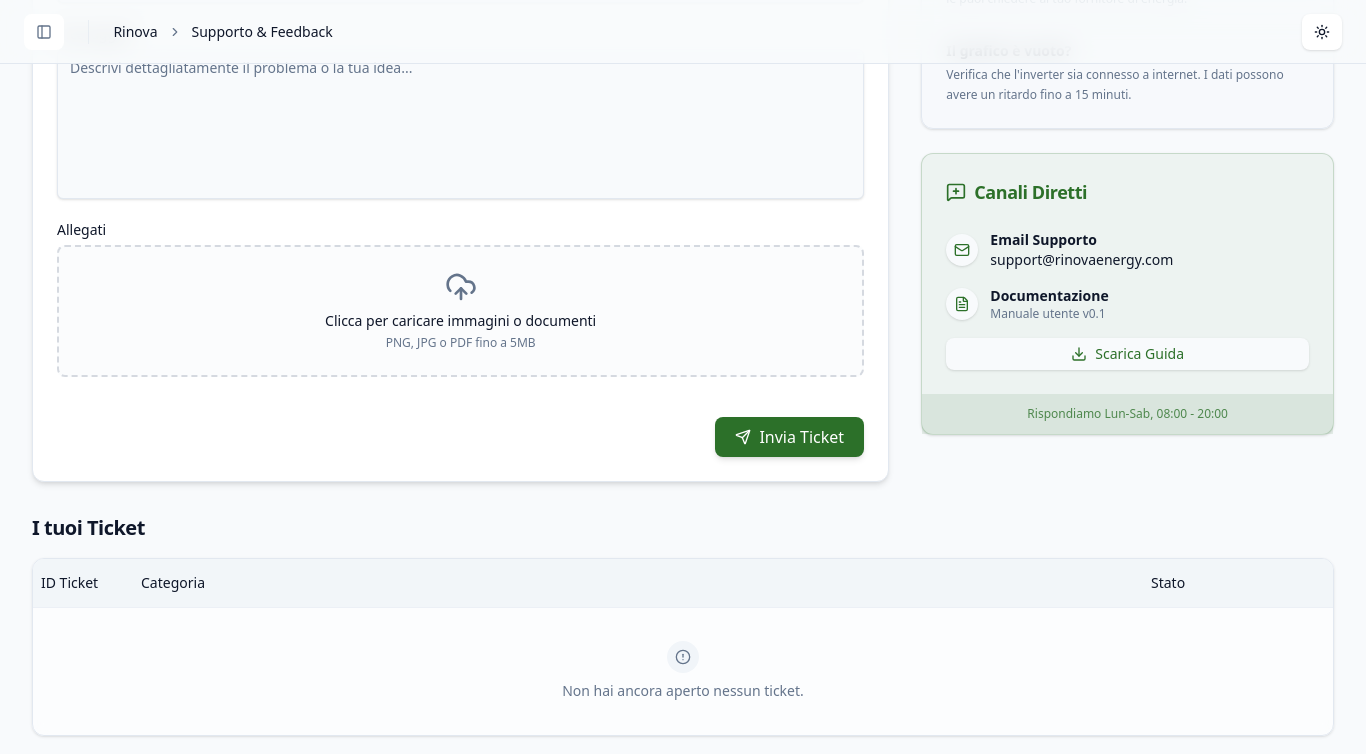
Test case: SupportPage › validates empty inputs
(page scrolled)
What coordinates should you click on to do the following:
click the button "Invia Ticket"
I would click on:
 (790, 437)
Its box is [715, 417, 864, 457].
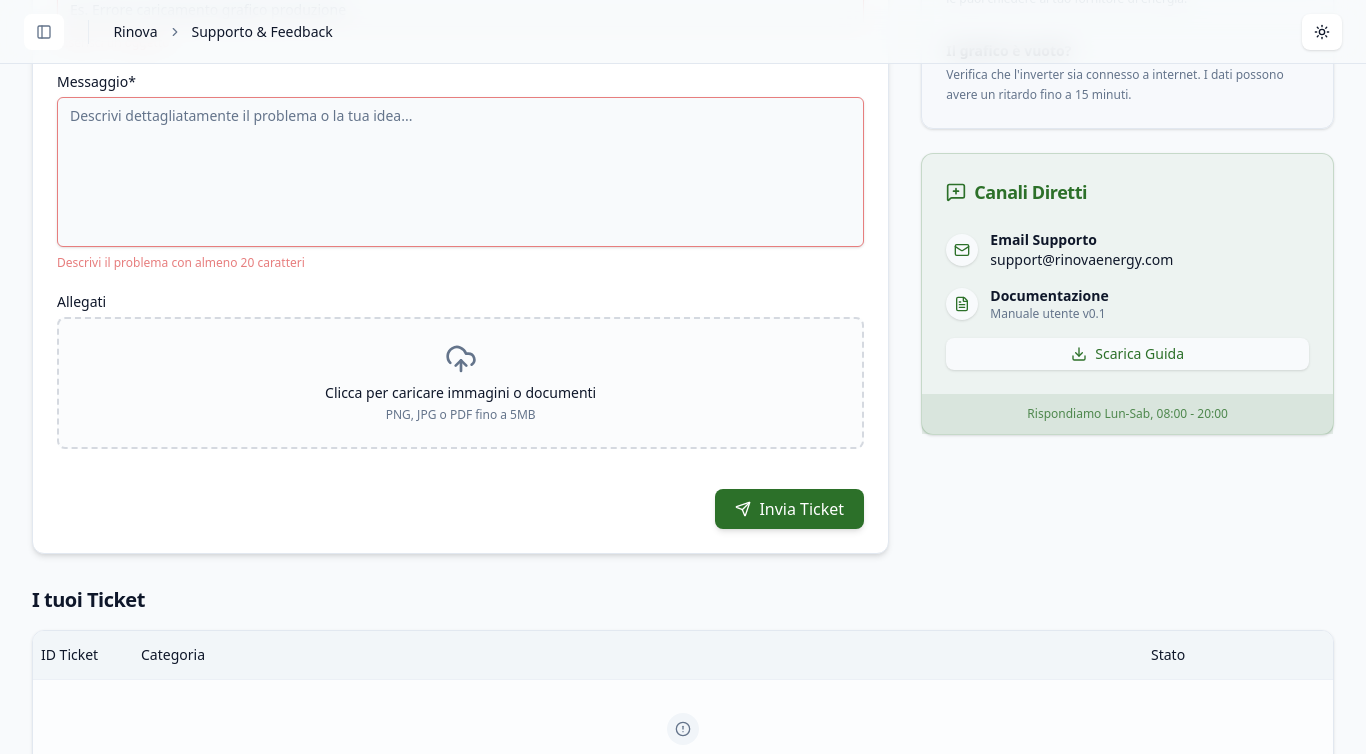
expect the text "Inserisci un oggetto" is shown: met, box [57, 34, 170, 51]
expect the text "Descrivi il problema con almeno 20 caratteri" is shown: met, box [57, 254, 305, 271]
